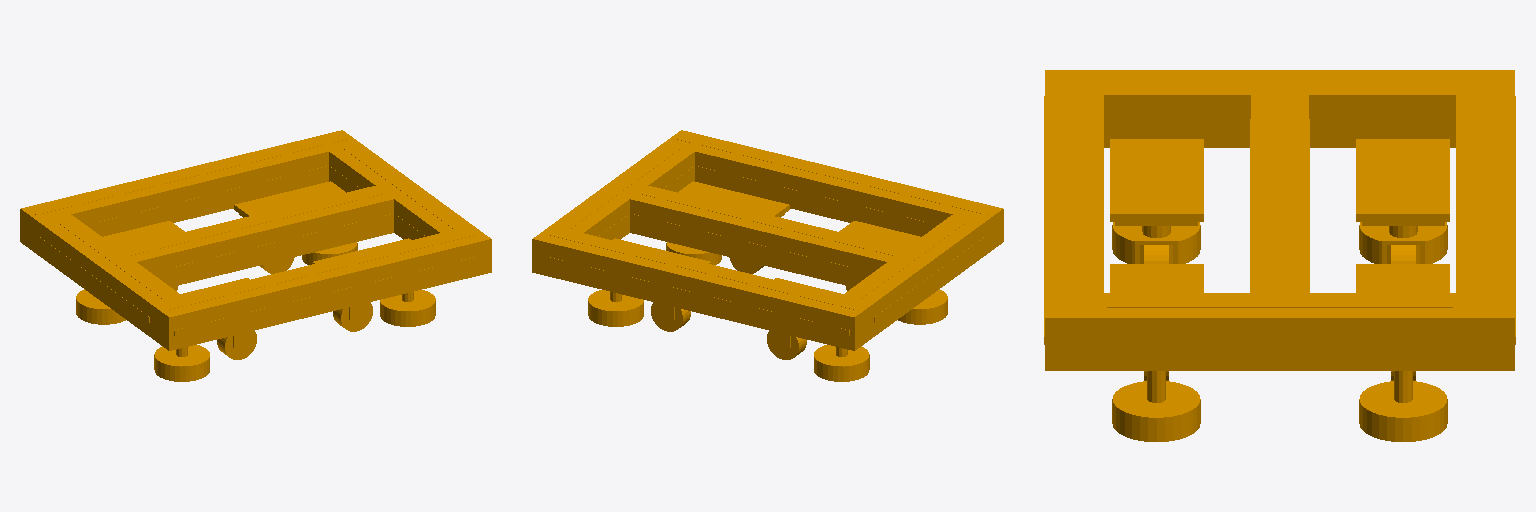
URDF robot description (misumi_rusa8_5050):
<?xml version="1.0"?>
<robot name="misumi_rusa8_5050">
<link name="base_link"><visual ><geometry ><mesh filename="../meshes/base_link.obj"/></geometry></visual><collision ><origin xyz="0 0 0.067" rpy="0 0 0"/><geometry ><box size="0.5 0.4 0.134"/></geometry></collision></link>
<link name="mount"></link>
<link name="top"></link>
<joint name="mount_joint" type="fixed"><parent link="base_link"/><child link="mount"/><origin xyz="0 0 0" rpy="0 0 0"/></joint>
<joint name="top_joint" type="fixed"><parent link="base_link"/><child link="top"/><origin xyz="0 0 0.134" rpy="0 0 0"/></joint>
</robot>

--- Facts derived from the render (not from the file) ---
Views: 3 orthographic renders of the robot side by side, from view 1: azimuth 30°, elevation 25°; view 2: azimuth 150°, elevation 25°; view 3: azimuth 270°, elevation 25°.
Model misumi_rusa8_5050 with 3 links and 2 joints (2 fixed), rooted at base_link, posed every joint at zero.
Links seen in each view (by area): view 1: base_link; view 2: base_link; view 3: base_link.
Boxes of the visible links, left/top/right/bottom form: base_link: left=20, top=130, right=491, bottom=381; base_link: left=532, top=130, right=1003, bottom=381; base_link: left=1044, top=70, right=1515, bottom=441.
Size in the robot's own frame: 0.5006 by 0.4006 by 0.1343 metres.
Meshes: 1 distinct files referenced, 1 mesh visuals loaded (1 OBJ).
